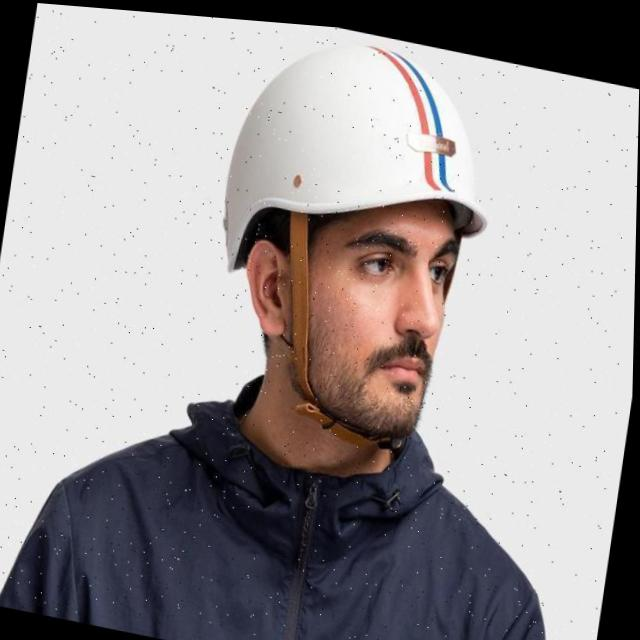helmet: (195, 13, 511, 461)
